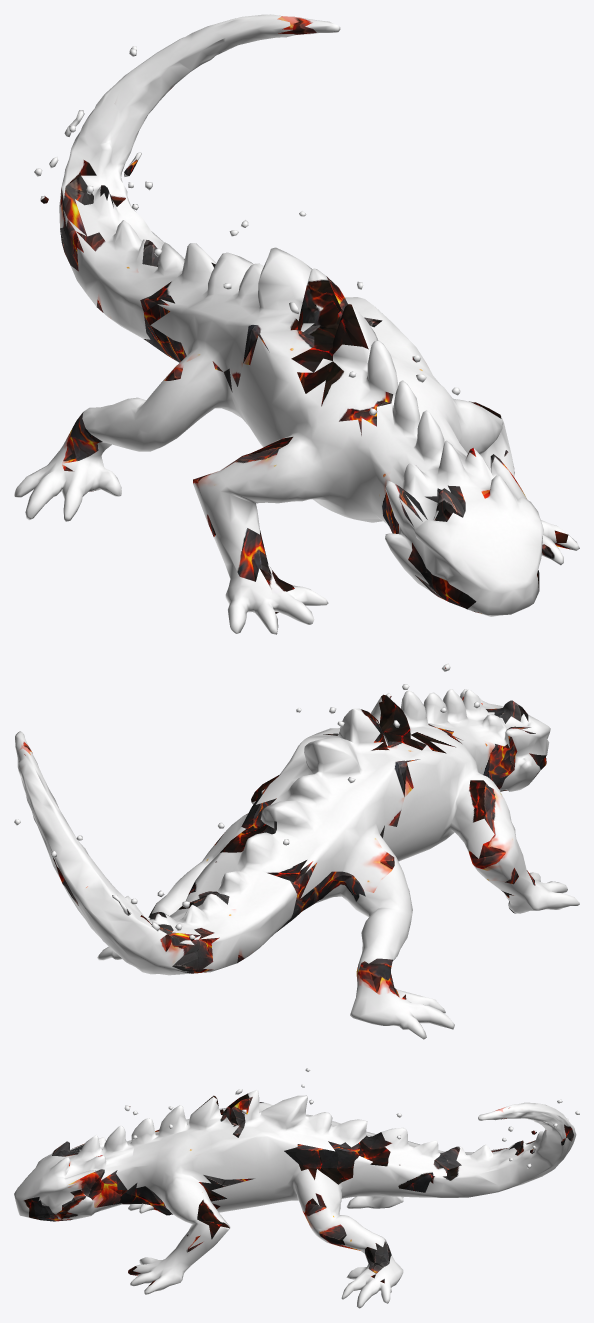
File: cinder_whelp_basic_7500tris.fbx
The picture shows the model from 3 angles, top to bottom: view 1: azimuth 30°, elevation 25°; view 2: azimuth 150°, elevation 25°; view 3: azimuth 270°, elevation 25°; orthographic projection. The views are drawn at different scales.
Visible parts, largest first — view 1: cinder_whelp_basic_decimated; view 2: cinder_whelp_basic_decimated; view 3: cinder_whelp_basic_decimated.
Boxes of the visible parts, bbox=[...] form: cinder_whelp_basic_decimated: bbox=[14, 14, 579, 634]; cinder_whelp_basic_decimated: bbox=[14, 663, 579, 1039]; cinder_whelp_basic_decimated: bbox=[14, 1068, 579, 1308].
Size of the model in its own units: 0.9667 by 0.7243 by 1.91.
